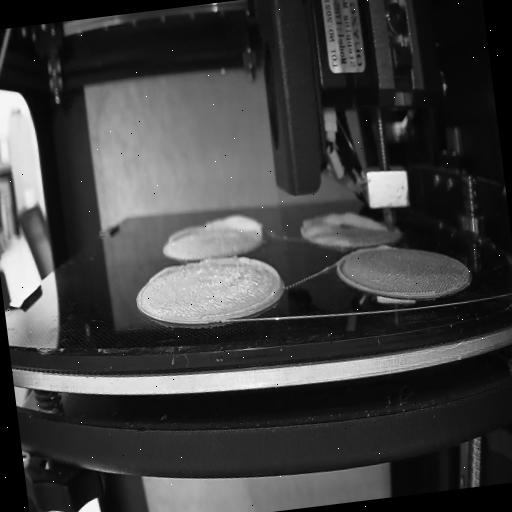over_extrusion: (202, 249, 285, 321), (296, 204, 386, 250), (202, 212, 268, 246), (146, 263, 184, 282), (166, 224, 199, 245), (376, 244, 394, 254)
